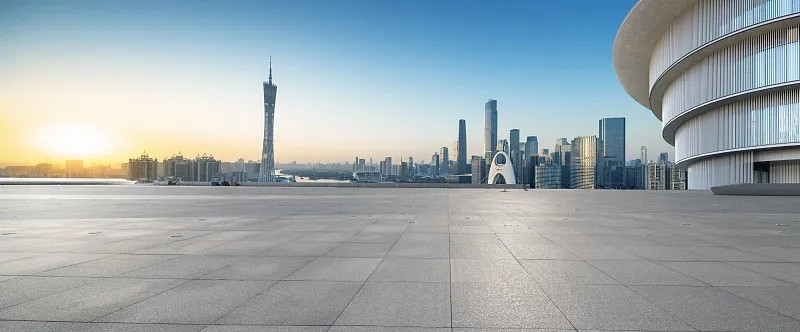Canton: (258, 52, 278, 182)
